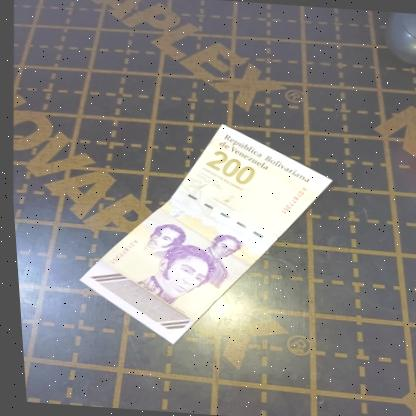two_hundred-front-vef: (62, 113, 343, 356)
